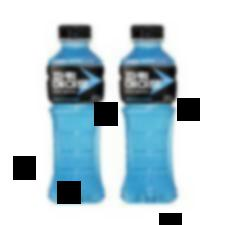powerade_mountainblast: (119, 24, 181, 205), (48, 21, 107, 205)
